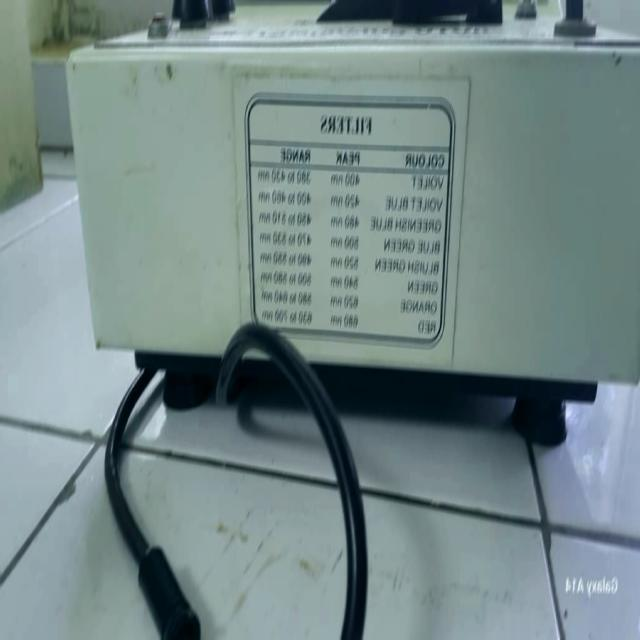Photocolorimeter: (70, 2, 607, 375)
